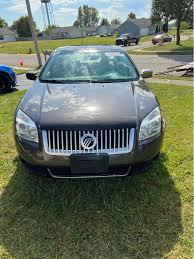Mercury: (76, 130, 102, 153)
